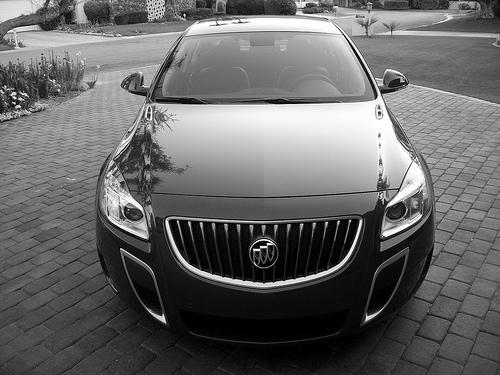car: (97, 16, 436, 355)
